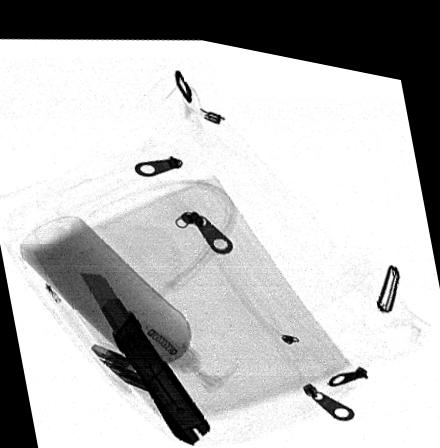Knife: (77, 268, 212, 438)
